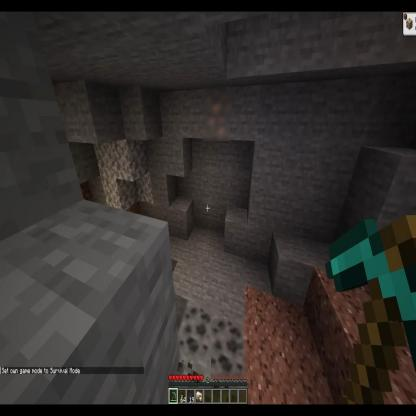coal ore: (177, 300, 215, 360), (212, 319, 247, 379)
iron ore: (202, 86, 230, 141)
